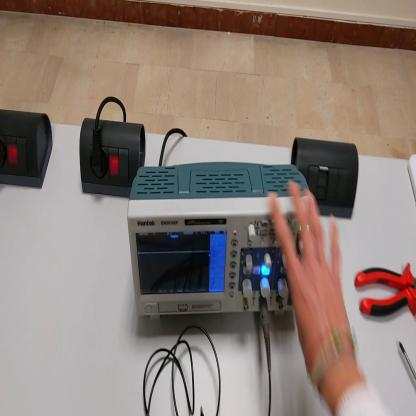hand: (269, 179, 357, 382)
oscilloscope: (128, 164, 317, 325)
pliers: (356, 258, 416, 320)
screwdriver-: (400, 341, 416, 379)
socket: (80, 118, 147, 201), (1, 108, 56, 190)
